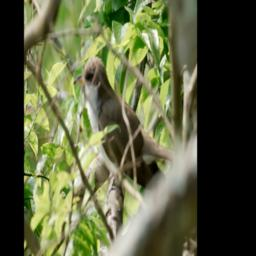Cuckoo: (74, 54, 177, 194)
